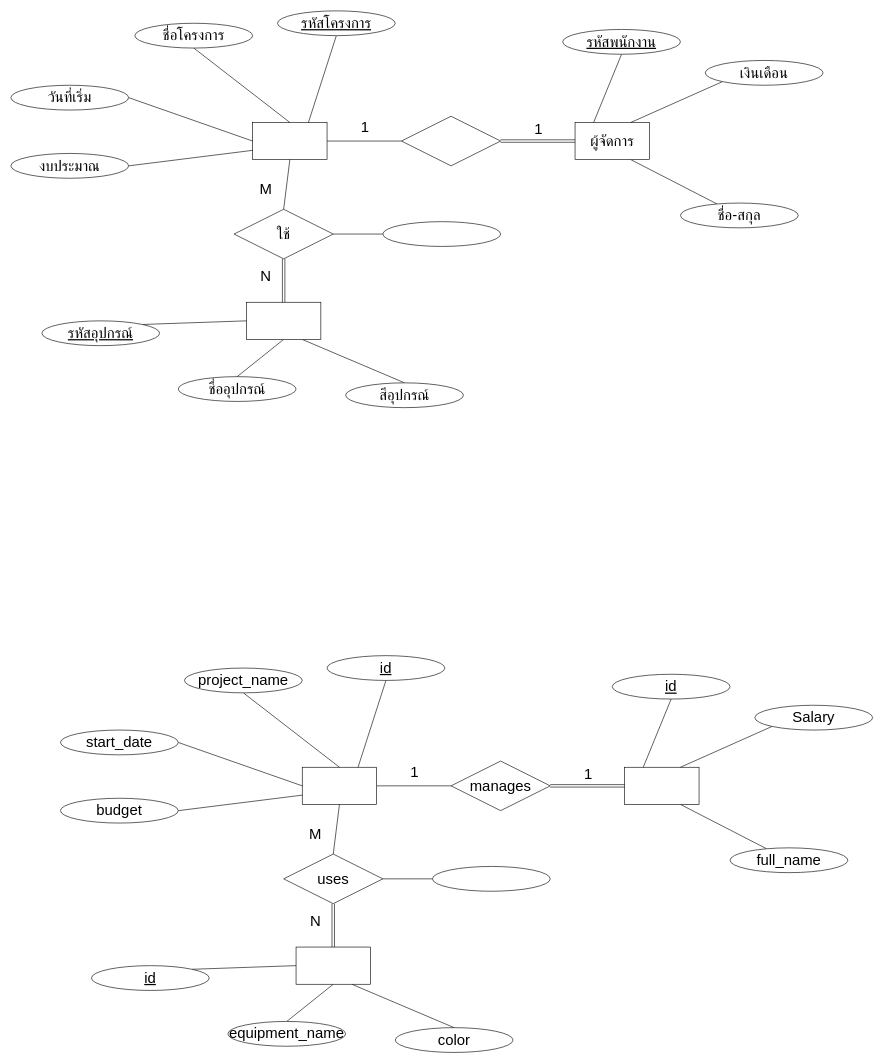
Image size: 884x1063. Some labels were removed from this diagram. Here are the shapes that lost their labels. From the top down, the centre of each, then its label:
the point at 289,141: โครงการ
the point at 451,141: บริหาร
the point at 441,233: จำนวน
the point at 283,320: อุปกรณ์
the point at 339,785: Project
the point at 661,785: Manager
the point at 491,878: amount
the point at 332,965: Equipment
